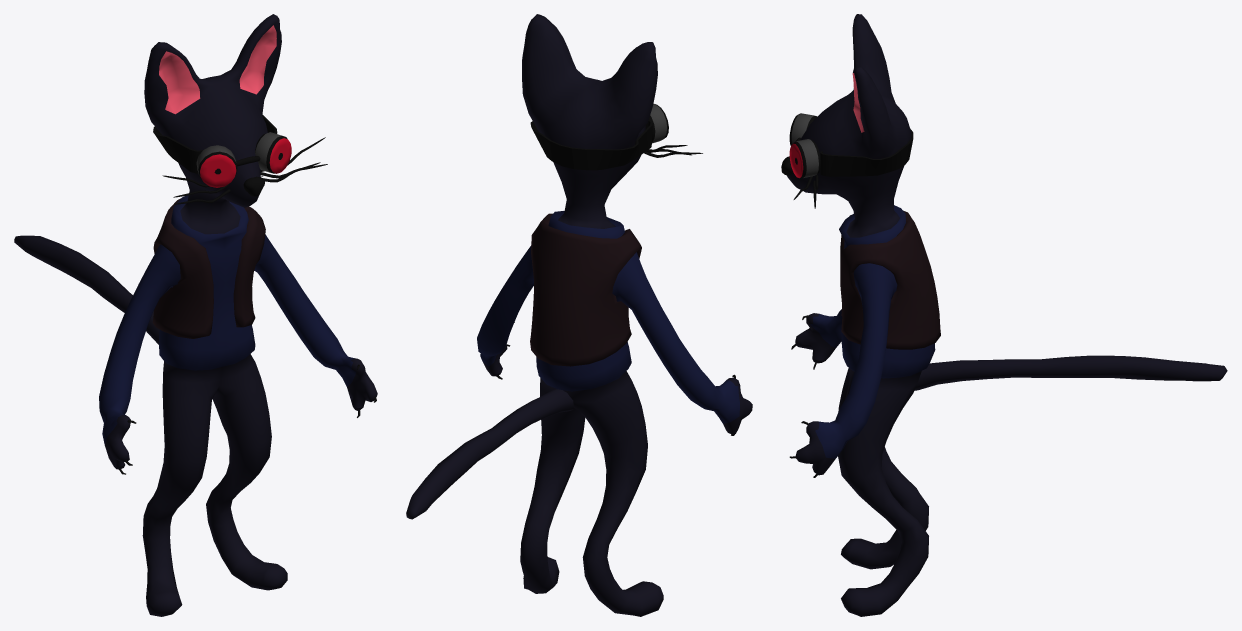
File: CAT_I.fbx
3 views of the same model, side by side, from view 1: azimuth 30°, elevation 25°; view 2: azimuth 150°, elevation 25°; view 3: azimuth 270°, elevation 25° (orthographic). The views are drawn at different scales.
Parts seen in each view (by area): view 1: CAT_I_001; view 2: CAT_I_001; view 3: CAT_I_001.
Boxes of the visible parts, left/top/right/bottom form: CAT_I_001: left=14, top=14, right=377, bottom=616; CAT_I_001: left=406, top=14, right=752, bottom=616; CAT_I_001: left=781, top=14, right=1227, bottom=616.
Bounding box in the file's own units: 0.2404 × 0.5058 × 0.3726.
